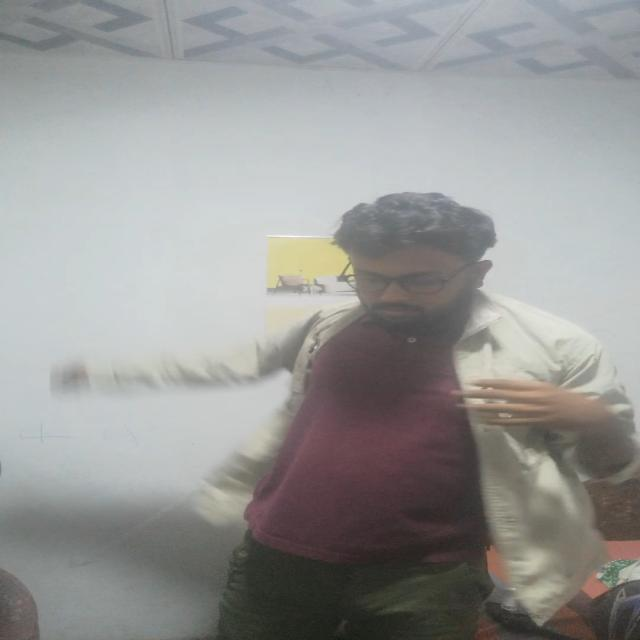Jacket_Wearer: (62, 302, 640, 614)
Person: (72, 187, 640, 640)
